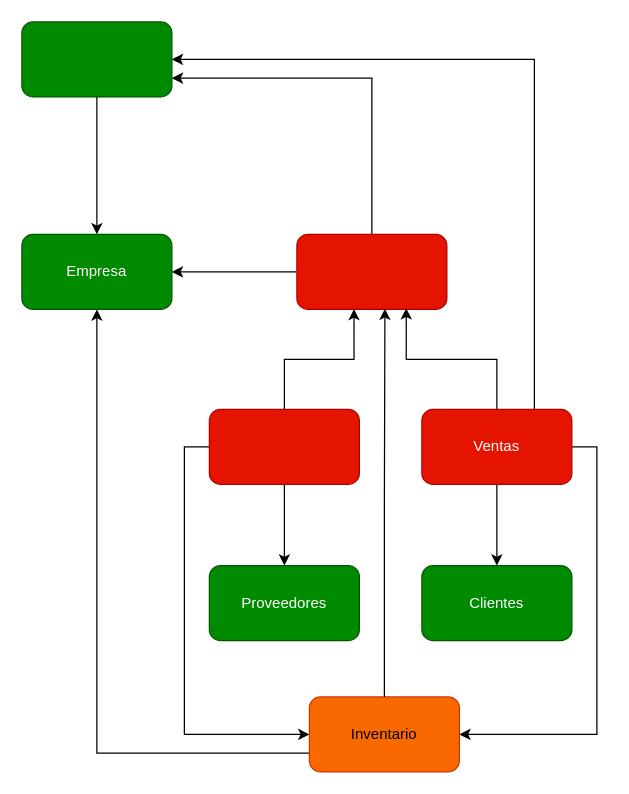
Image size: 629x794. Some labels were removed from this diagram. Each missing label, with the centre of its shape:
Account: the point at 96,59
Compra: the point at 283,446
Contabilidad: the point at 371,271
